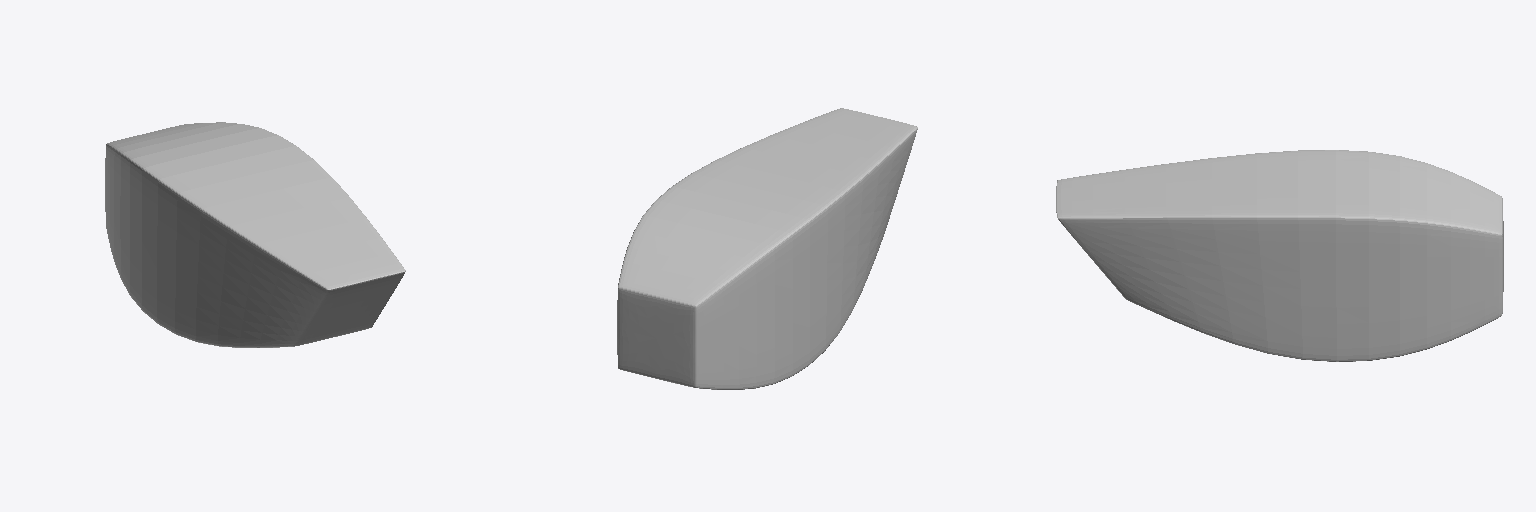
Rendered from engine.obj.
3 views of the same model, side by side, from view 1: azimuth 30°, elevation 25°; view 2: azimuth 150°, elevation 25°; view 3: azimuth 270°, elevation 25° (orthographic).
Parts seen in each view (by area): view 1: Cube; view 2: Cube; view 3: Cube.
Part boxes in pixels (x1,y1,x2,y2): Cube: (105, 122, 405, 347); Cube: (617, 108, 917, 389); Cube: (1056, 150, 1503, 361).
Size of the model in its own units: 1.96 by 1.96 by 5.4.